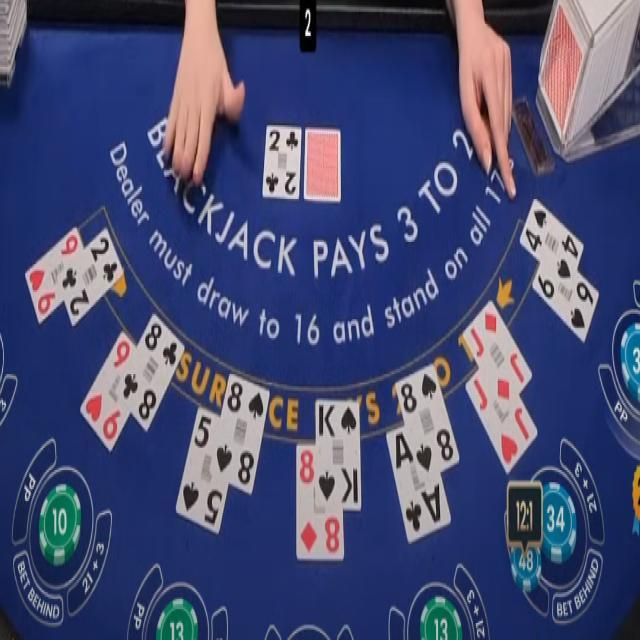Card-2: (58, 226, 123, 328), (262, 123, 301, 200)
Card-4: (519, 196, 584, 289)
Card-5: (176, 404, 228, 532)
Card-6: (533, 265, 599, 344)
Card-8: (115, 312, 184, 434), (395, 362, 459, 483), (210, 373, 270, 495), (296, 444, 343, 559)
Card-9: (80, 328, 135, 453), (25, 225, 83, 325)
Card-A: (386, 424, 451, 544)
Card-J: (462, 298, 533, 416), (465, 367, 538, 476)
Card-K: (315, 400, 361, 510)
